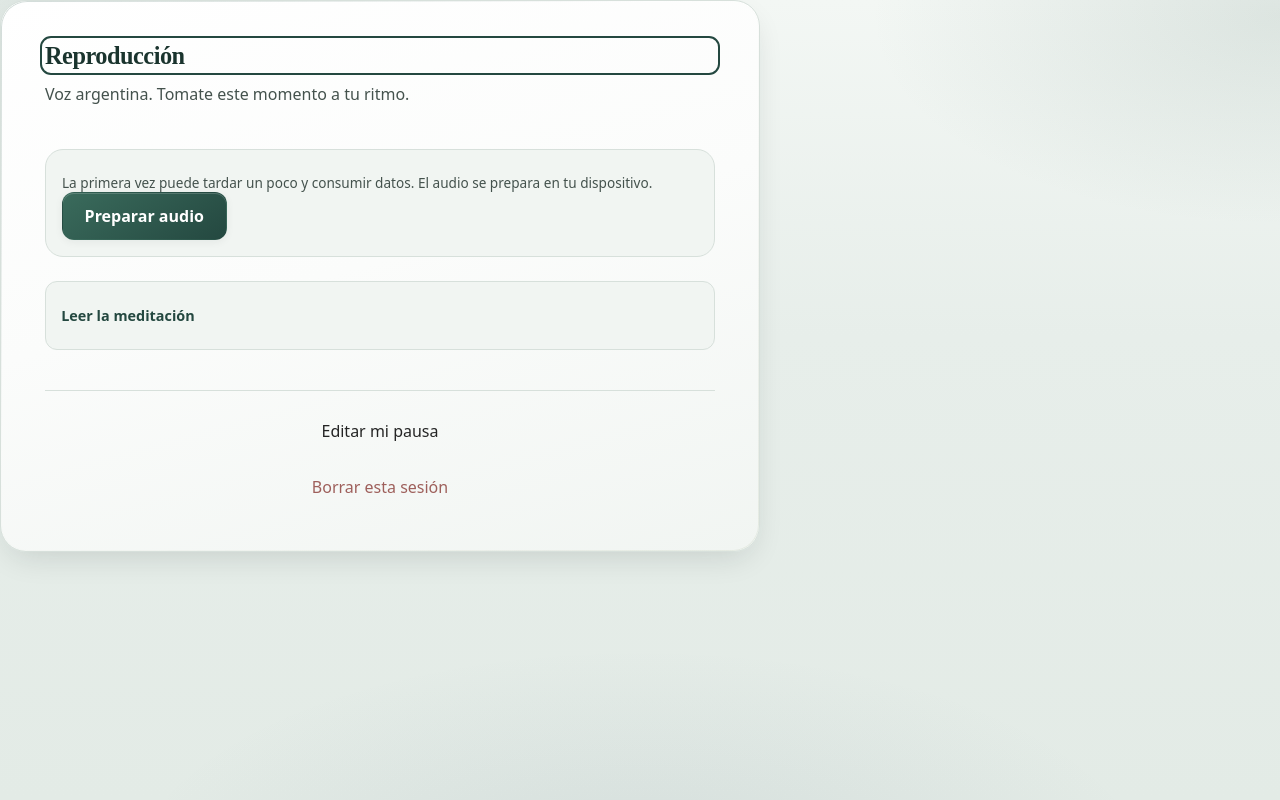
Test: PlaybackStep — voz sencilla y consentimiento › does not expose configuration errors when the online service is absent
Click the button "Preparar audio". click: x=144, y=216
box: [62,192,227,240]
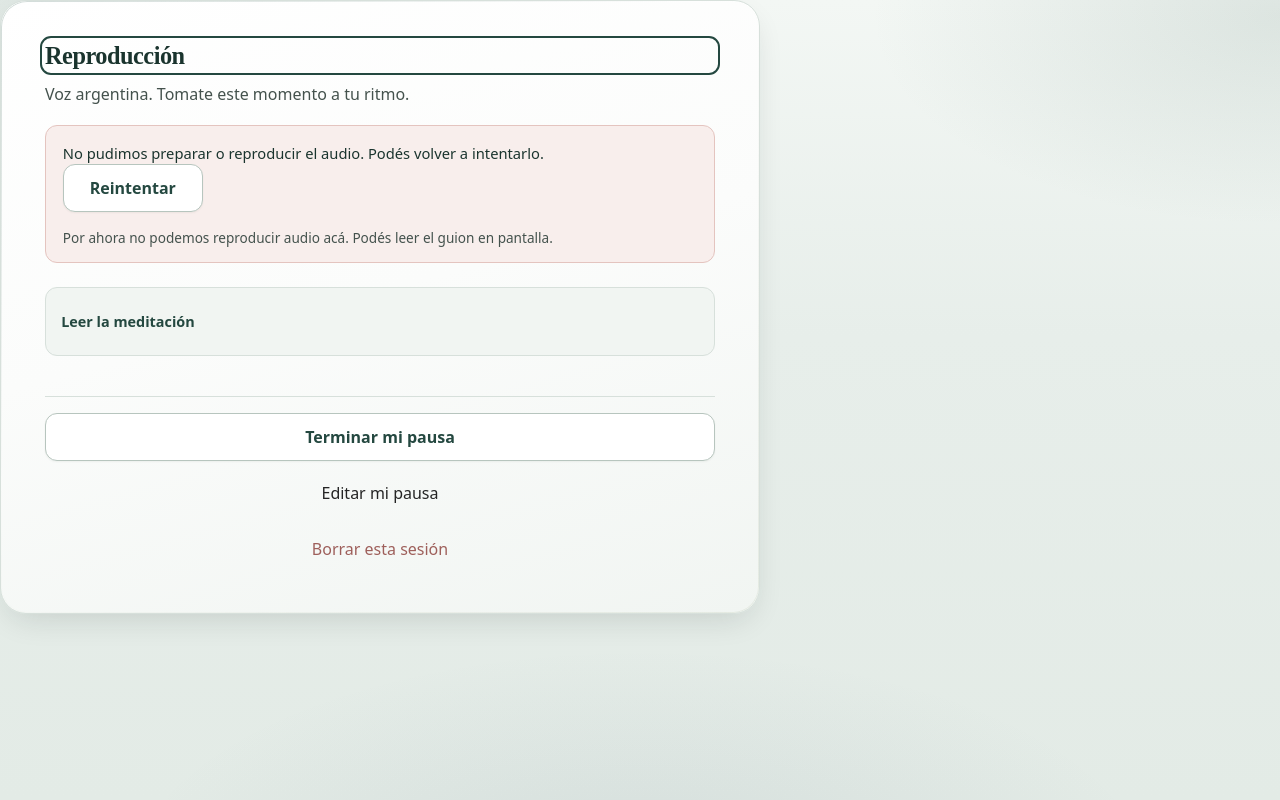
expect the text "No pudimos preparar o reproducir" is shown: met, box [63,142,544,162]
